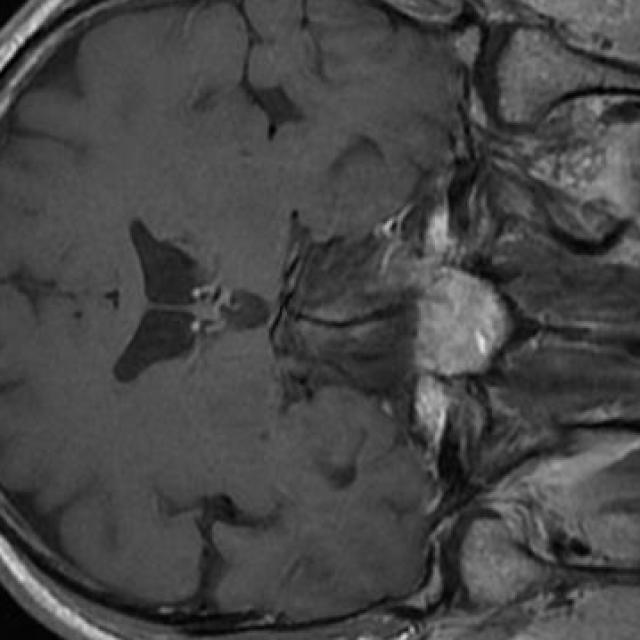pituitary: (362, 239, 506, 376)
